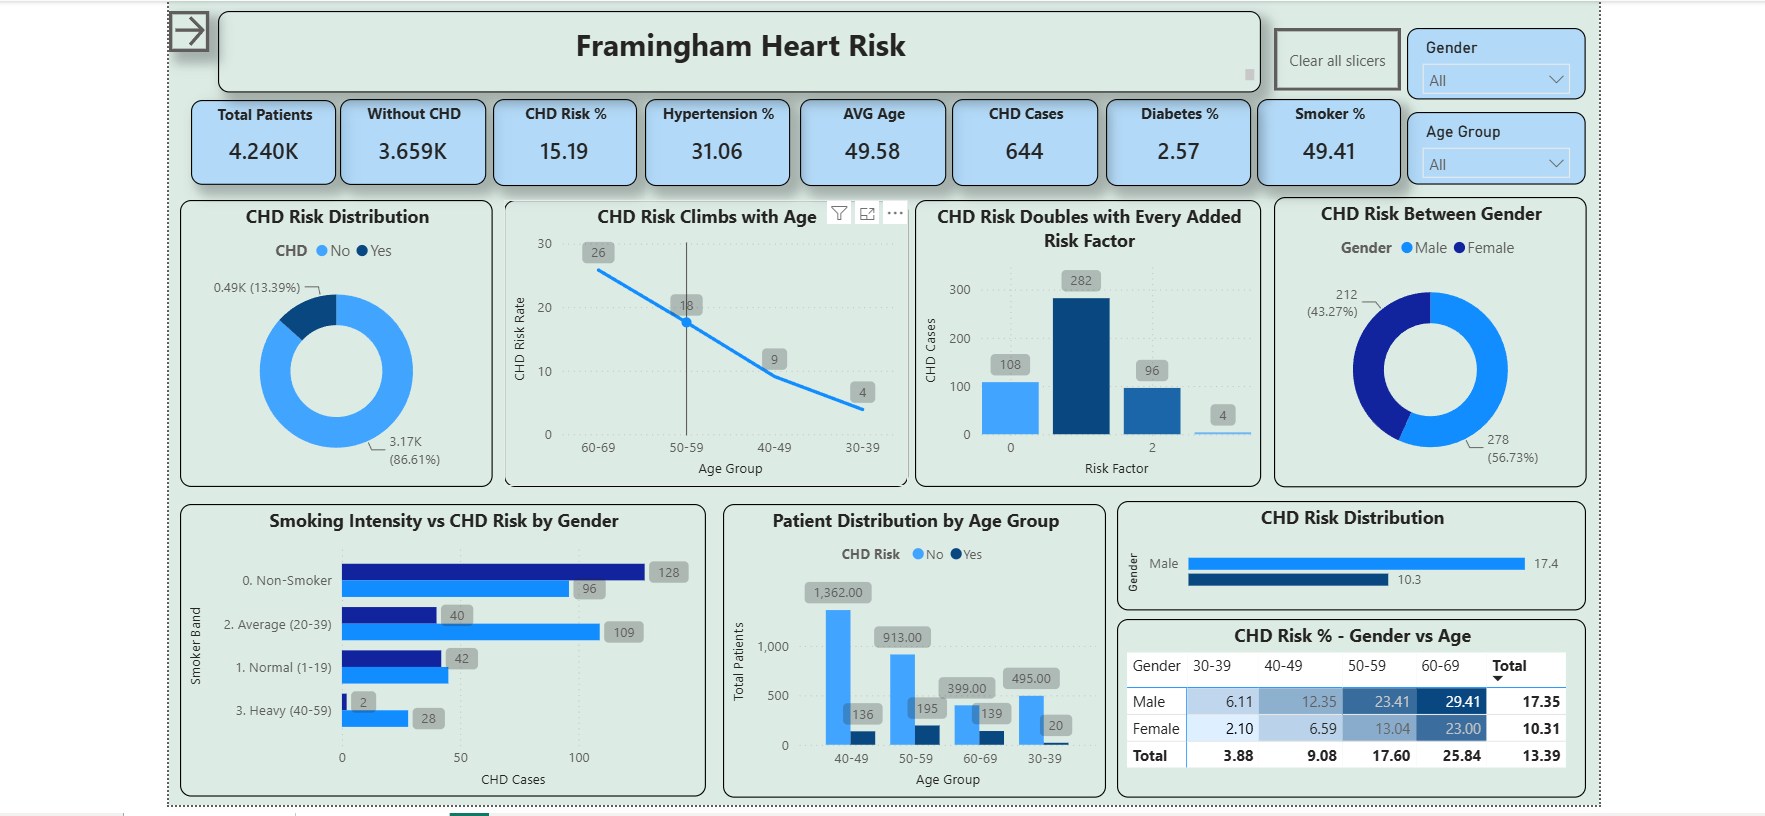

This screenshot's page, from the dashboard's own definition file:
{"tool":"powerbi","page":{"name":"Page 1","canvas":[1280,720],"ordinal":0},"visuals":[{"type":"cardVisual","title":"Total Patients ","fields":{"Data":["_Measures.Total Patients"]},"box":[248.1,202.4,130.7,75.2],"z":0},{"type":"cardVisual","title":"Patients Without CHD","fields":{"Data":["_Measures.Total Patients"]},"box":[73.4,202.4,161.2,75.2],"z":1000},{"type":"cardVisual","title":"CHD Risk %","fields":{"Data":["_Measures.CHD Rate %"]},"box":[389.6,201.5,129.9,76.1],"z":2000},{"type":"cardVisual","title":"AVG Age ","fields":{"Data":["_Measures.Avg Age"]},"box":[530.1,202.4,121.8,76.1],"z":3000},{"type":"cardVisual","title":"Smoker %","fields":{"Data":["_Measures.Smoker %"]},"box":[660.9,202.4,125.4,76.1],"z":4000},{"type":"cardVisual","title":"Hypertension %","fields":{"Data":["_Measures.Hypertension %"]},"box":[797,202.4,125.4,76.1],"z":5000},{"type":"cardVisual","title":"Diabetes %","fields":{"Data":["_Measures.Diabetes %"]},"box":[935.8,202.4,126.3,76.1],"z":6000},{"type":"donutChart","title":" CHD Risk Distribution","fields":{"Category":["framingham_cleaned.chd_risk_10yr"],"Y":["_Measures.Total Patients"]},"box":[43,12.5,298.2,180.9],"z":7000},{"type":"clusteredBarChart","title":" CHD Risk Distribution","fields":{"Category":["framingham_cleaned.gender"],"Y":["_Measures.CHD Rate %"]},"box":[353.7,12.5,298.2,180.9],"z":8000},{"type":"cardVisual","title":"CHD Cases","fields":{"Data":["_Measures.CHD Cases"]},"box":[1074.6,202.4,129.9,76.1],"z":9000},{"type":"lineChart","title":"CHD Risk Climbs with Age","fields":{"Category":["framingham_cleaned.age_group"],"Y":["_Measures.CHD Rate %"]},"box":[438.8,286.6,338.5,225.7],"z":10000},{"type":"clusteredColumnChart","title":"Patient Distribution by Age Group","fields":{"Category":["framingham_cleaned.age_group"],"Y":["_Measures.Total Patients"],"Series":["framingham_cleaned.chd_risk_10yr"]},"box":[0,286.6,430.7,225.7],"z":11000},{"type":"pivotTable","title":"CHD Risk % - Gender vs Age","fields":{"Values":["_Measures.CHD Rate %"],"Columns":["framingham_cleaned.age_group"],"Rows":["framingham_cleaned.gender"]},"box":[785.9,291.8,429.9,148.8],"z":12000},{"type":"donutChart","title":"CHD Risk Between Gender ","fields":{"Category":["framingham_cleaned.gender"],"Y":["_Measures.CHD Cases"]},"box":[660.4,12.6,298.6,180.9],"z":13000},{"type":"clusteredColumnChart","title":"CHD Risk Doubles with Every Added Risk Factor","fields":{"Category":["framingham_cleaned.risk_factor_count"],"Y":["_Measures.CHD Cases"]},"box":[785.9,455.2,336.5,220.8],"z":13001}]}

Visuals, with their boxes on the page's 1280x720 design canvas (x1, y1, x2, y2). These are canvas units, not pixel positions in the 1765x816 screenshot, which may show the page scaled, cropped or inside an application window:
"Total Patients " cardVisual: Rect(248, 202, 379, 278)
"Patients Without CHD" cardVisual: Rect(73, 202, 235, 278)
"CHD Risk %" cardVisual: Rect(390, 202, 520, 278)
"AVG Age " cardVisual: Rect(530, 202, 652, 278)
"Smoker %" cardVisual: Rect(661, 202, 786, 278)
"Hypertension %" cardVisual: Rect(797, 202, 922, 278)
"Diabetes %" cardVisual: Rect(936, 202, 1062, 278)
" CHD Risk Distribution" donutChart: Rect(43, 12, 341, 193)
" CHD Risk Distribution" clusteredBarChart: Rect(354, 12, 652, 193)
"CHD Cases" cardVisual: Rect(1075, 202, 1204, 278)
"CHD Risk Climbs with Age" lineChart: Rect(439, 287, 777, 512)
"Patient Distribution by Age Group" clusteredColumnChart: Rect(0, 287, 431, 512)
"CHD Risk % - Gender vs Age" pivotTable: Rect(786, 292, 1216, 441)
"CHD Risk Between Gender " donutChart: Rect(660, 13, 959, 194)
"CHD Risk Doubles with Every Added Risk Factor" clusteredColumnChart: Rect(786, 455, 1122, 676)
